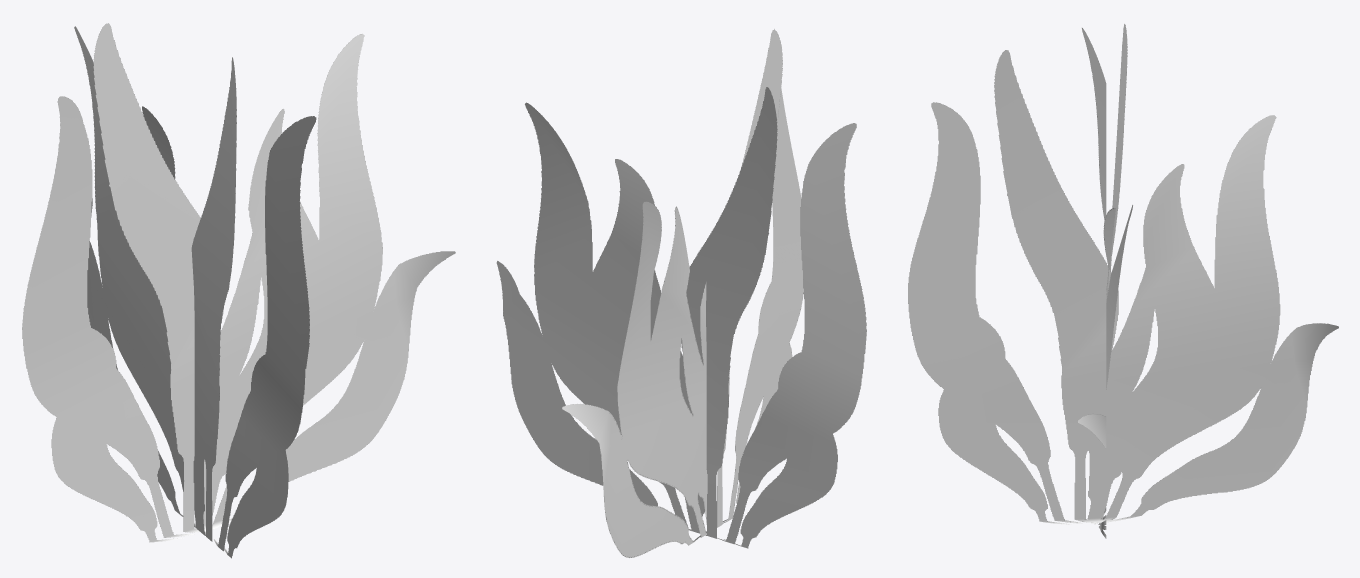
Rendered from GrassMesh.fbx.
3 views of the same model, side by side, from view 1: azimuth 30°, elevation 25°; view 2: azimuth 150°, elevation 25°; view 3: azimuth 270°, elevation 25° (orthographic). The views are drawn at different scales.
Parts seen in each view (by area): view 1: Grass; view 2: Grass; view 3: Grass.
Boxes of the visible parts, bbox=[...] form: Grass: bbox=[22, 23, 455, 558]; Grass: bbox=[496, 29, 866, 557]; Grass: bbox=[908, 24, 1338, 538].
Size of the model in its own units: 61.58 by 72.02 by 61.58.
